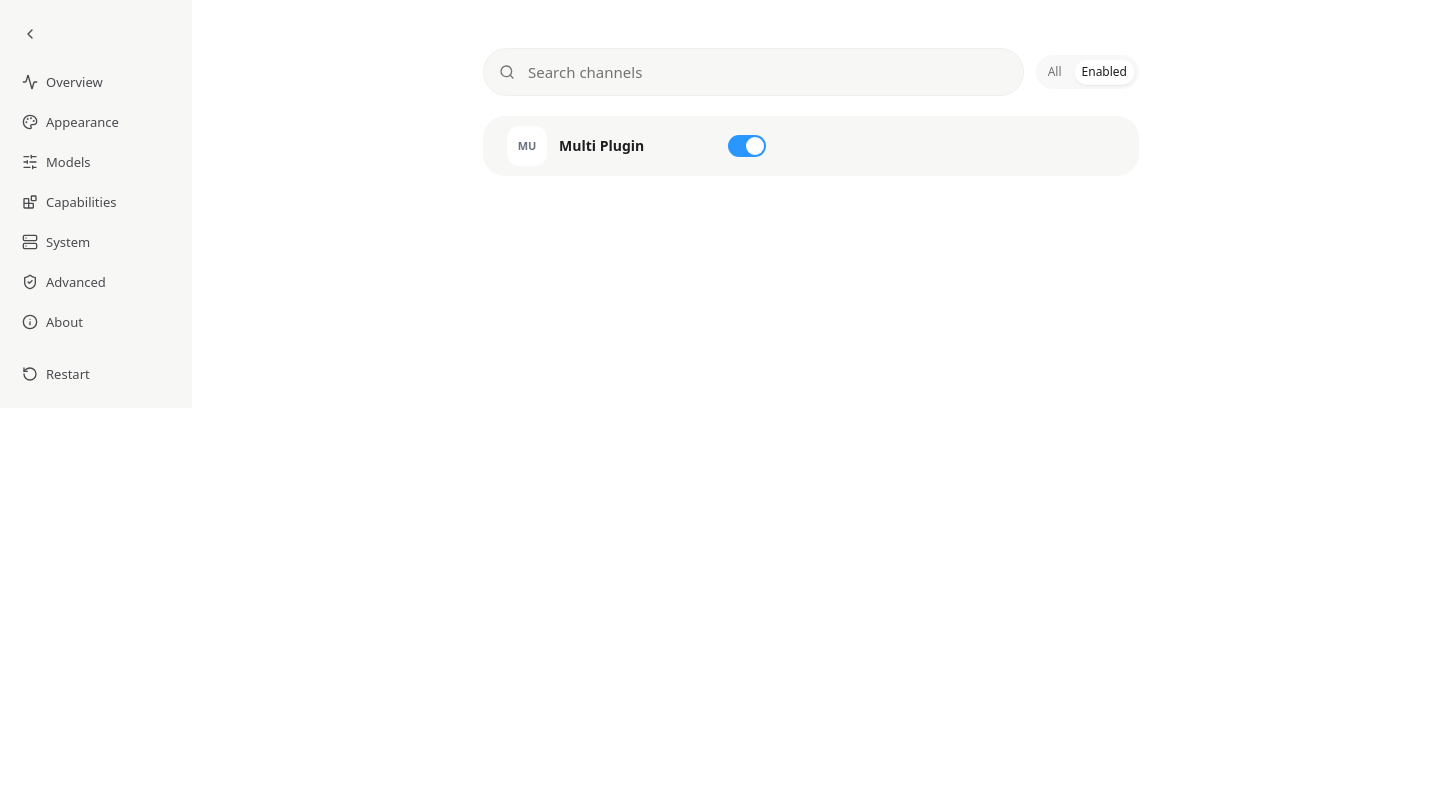
Scenario: Settings channels › renders external multi-instance channels from the shared contract
This screenshot has width=1440, height=810.
Click the button "MU Multi Plugin".
click(605, 146)  # box [507, 126, 703, 166]
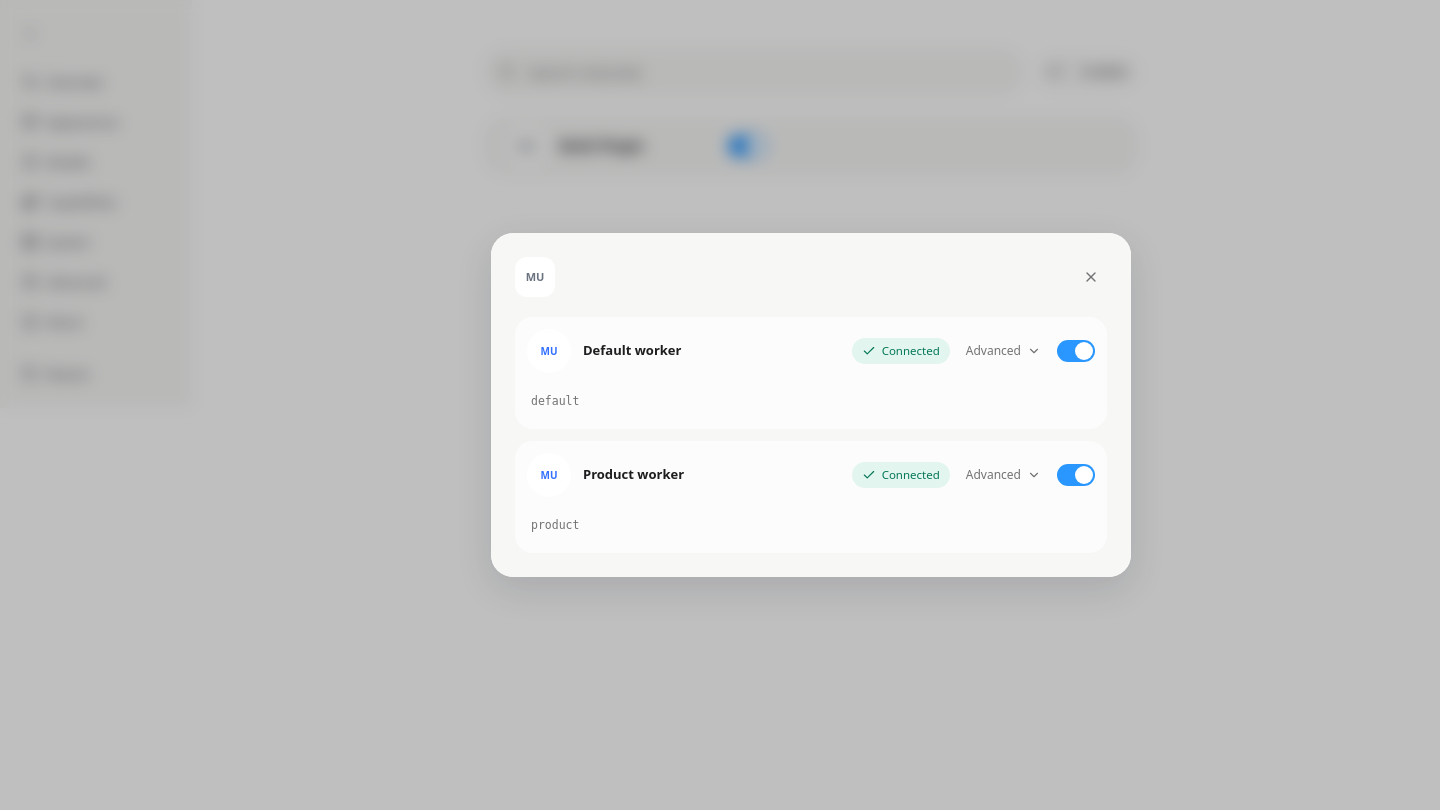
expect the text "Default worker" is shown: met, box [583, 341, 681, 359]
Click the button "Advanced" in the row of "Product worker".
click(1003, 475)  # box [962, 459, 1045, 491]
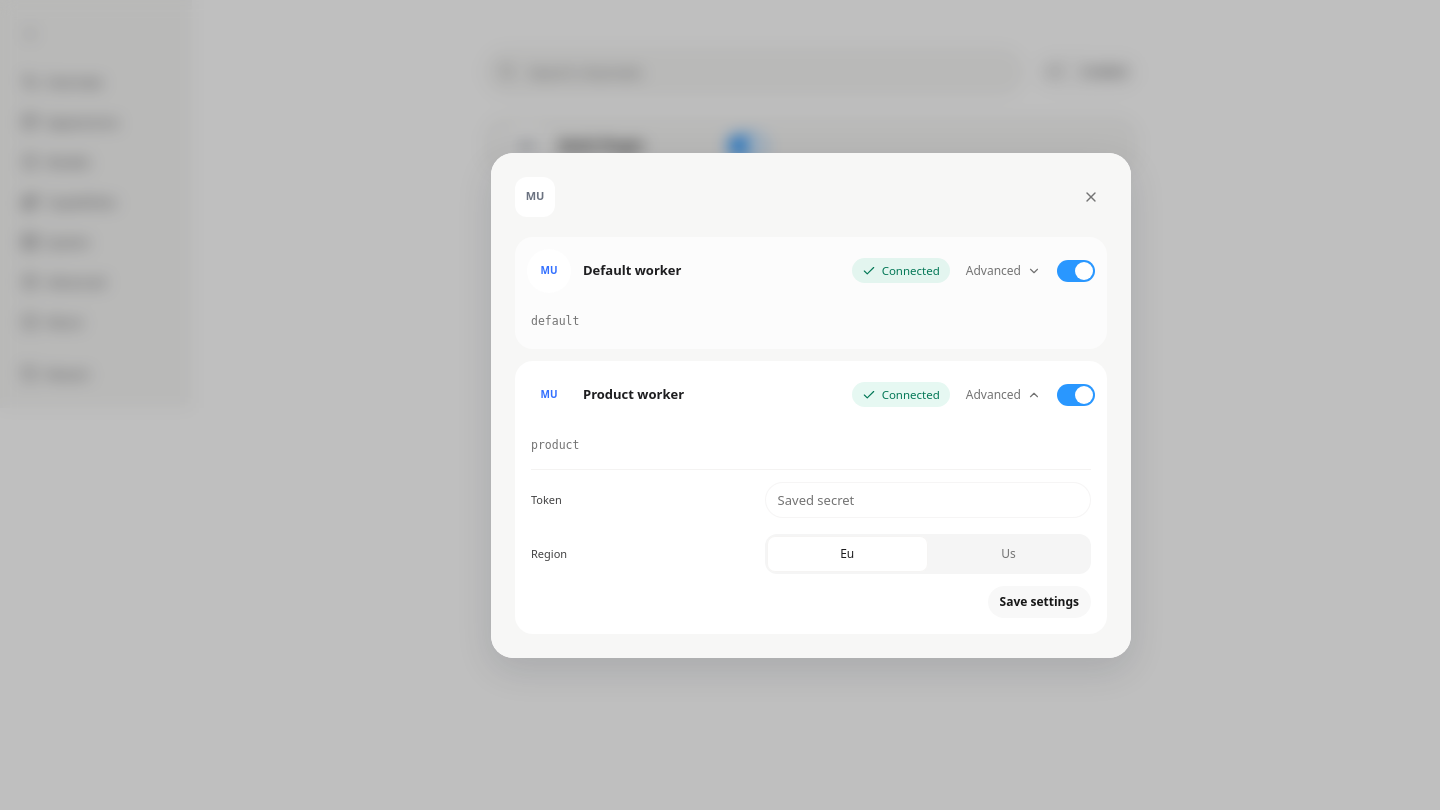
expect the radio button labelled "Eu" is checked: met, box [767, 536, 928, 572]
